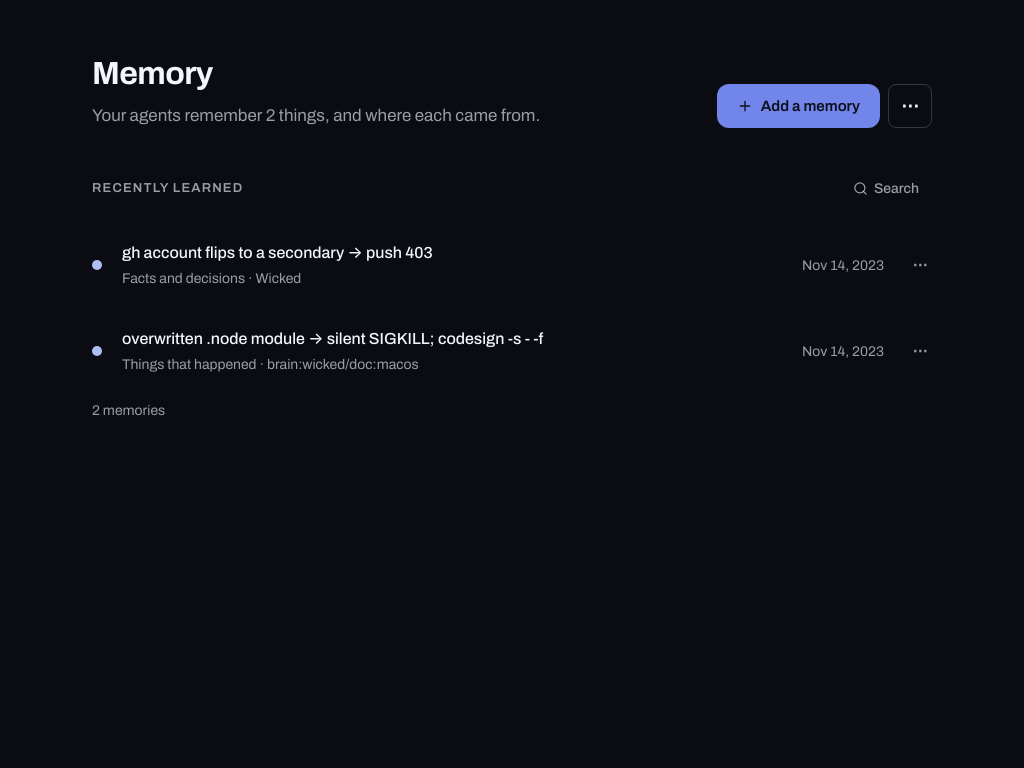
Scenario: MemoryPage — Edit and Retire › Edit sends the new words to /memory/edit and lists the replacement
This screenshot has width=1024, height=768.
Click the 1st button with test id "memory-actions-button".
click(920, 265)  # box [900,245,940,285]
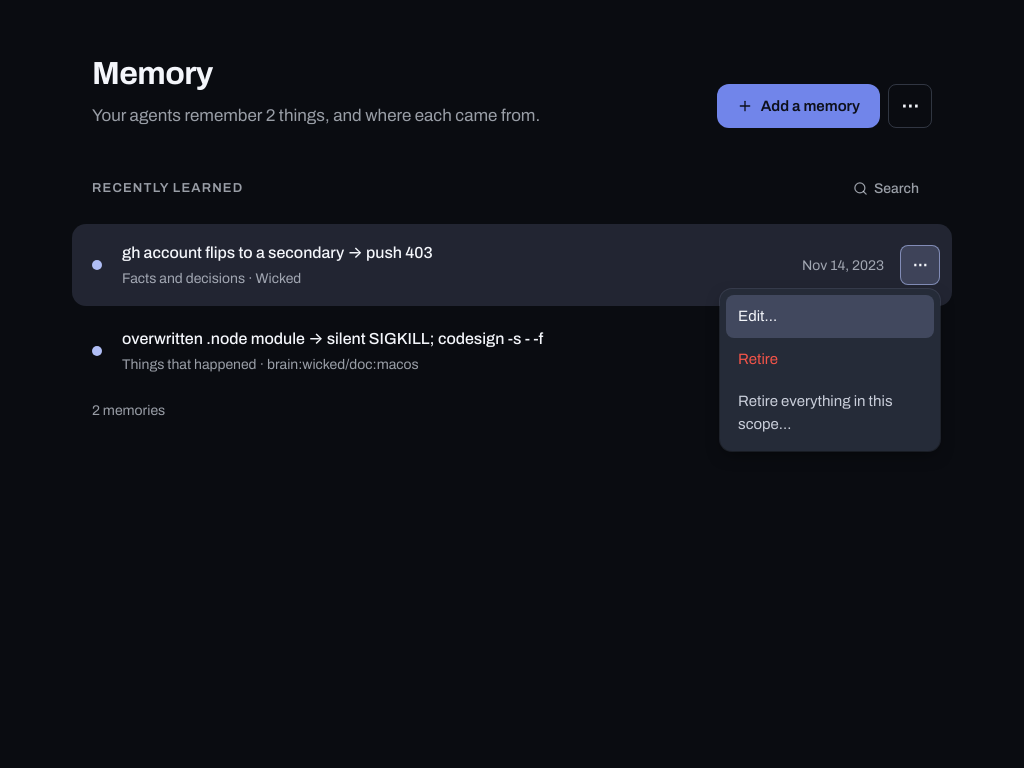
Click the menu item "Edit…".
click(830, 317)  # box [726,295,934,338]
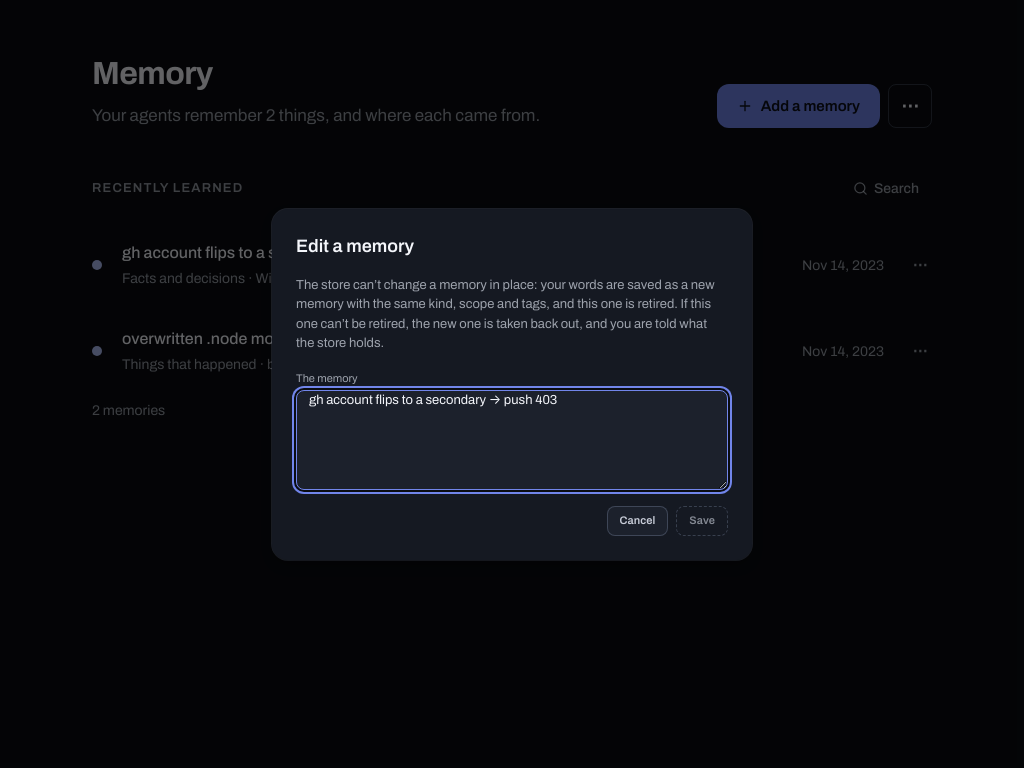
Result: the dialog with test id "memory-edit-dialog" shows "If this one can’t be retired, the new one is taken back out" at [296,278,715,350]
Result: the button with test id "memory-edit-save" is disabled at [676,506,728,536]
Replace the text in the text box with test id "memory-edit-text" with "gh pushes pin the account per command" at (512, 440), box [296,390,728,490]
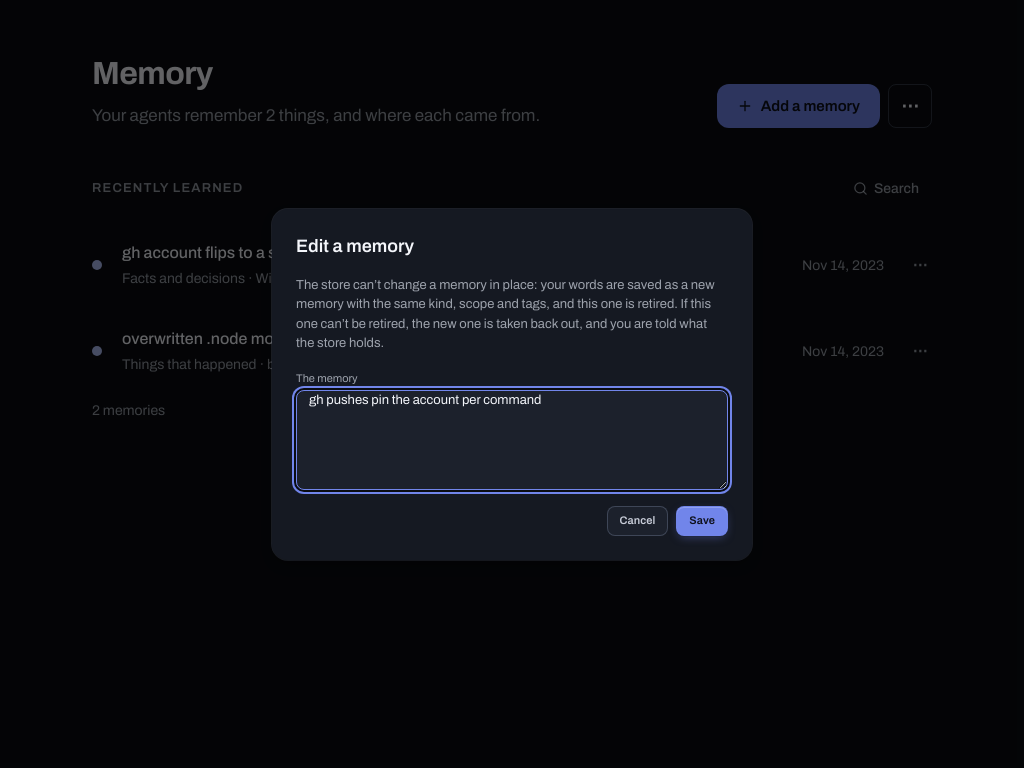
Click the button with test id "memory-edit-save".
click(702, 520)  # box [676,506,728,536]
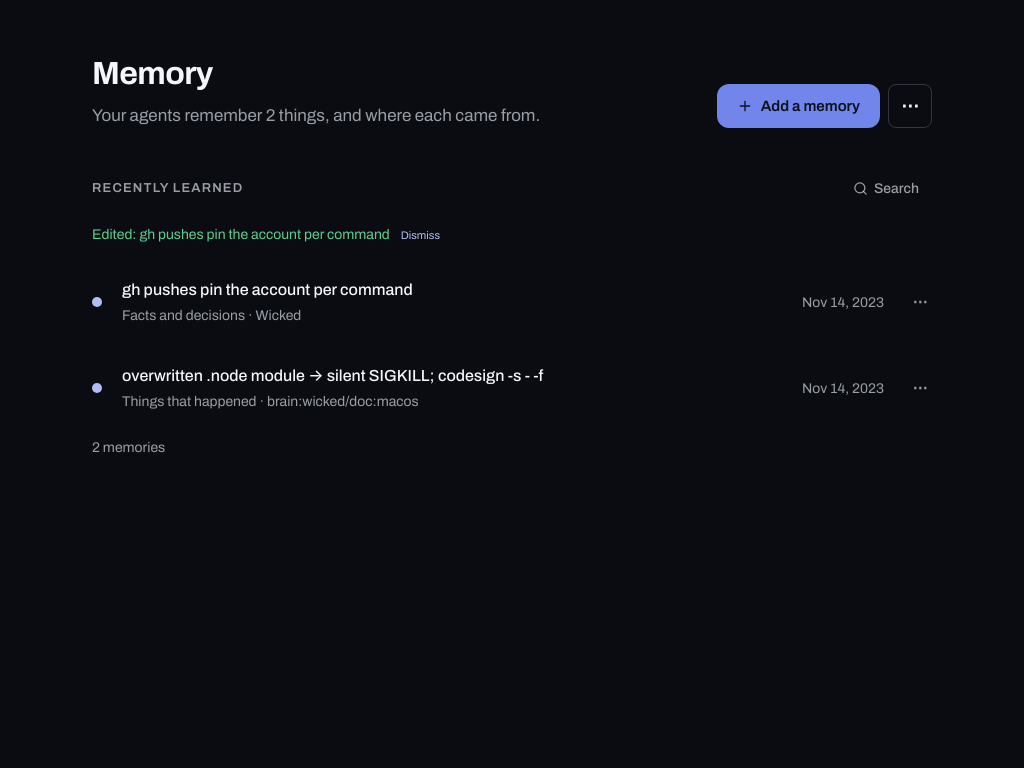
Result: the message with test id "memories-note" shows "Edited: gh pushes pin the account per command" at [92,227,390,242]
